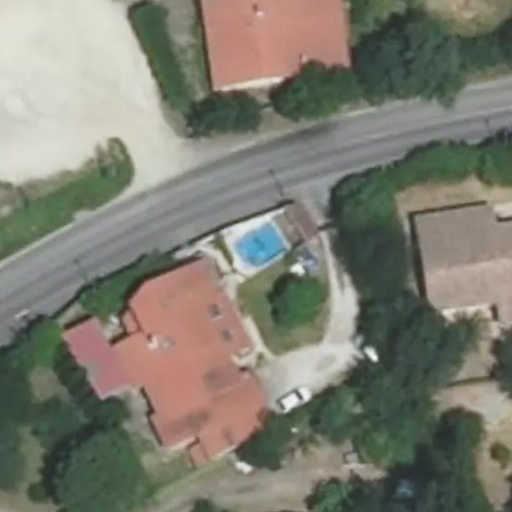pool: (222, 241, 283, 247)
